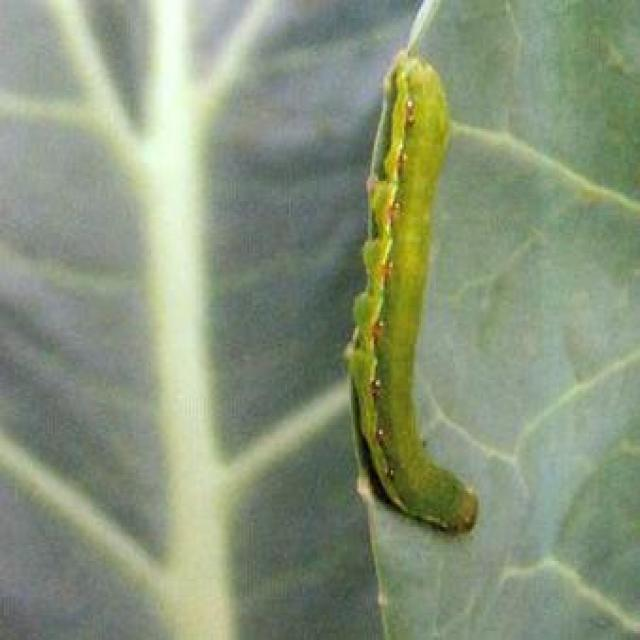BeetArmyWorm-Larva-: (336, 38, 495, 549)
